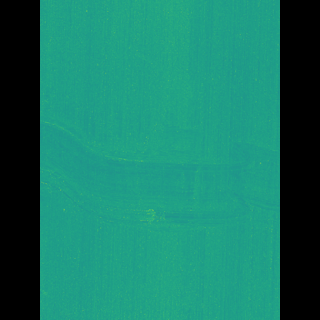Loch: (70, 93, 250, 239)
